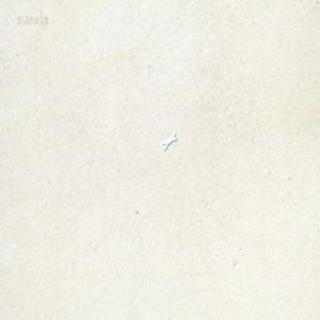Wrenchtrack_idkeyframe: (161, 132, 177, 150)
